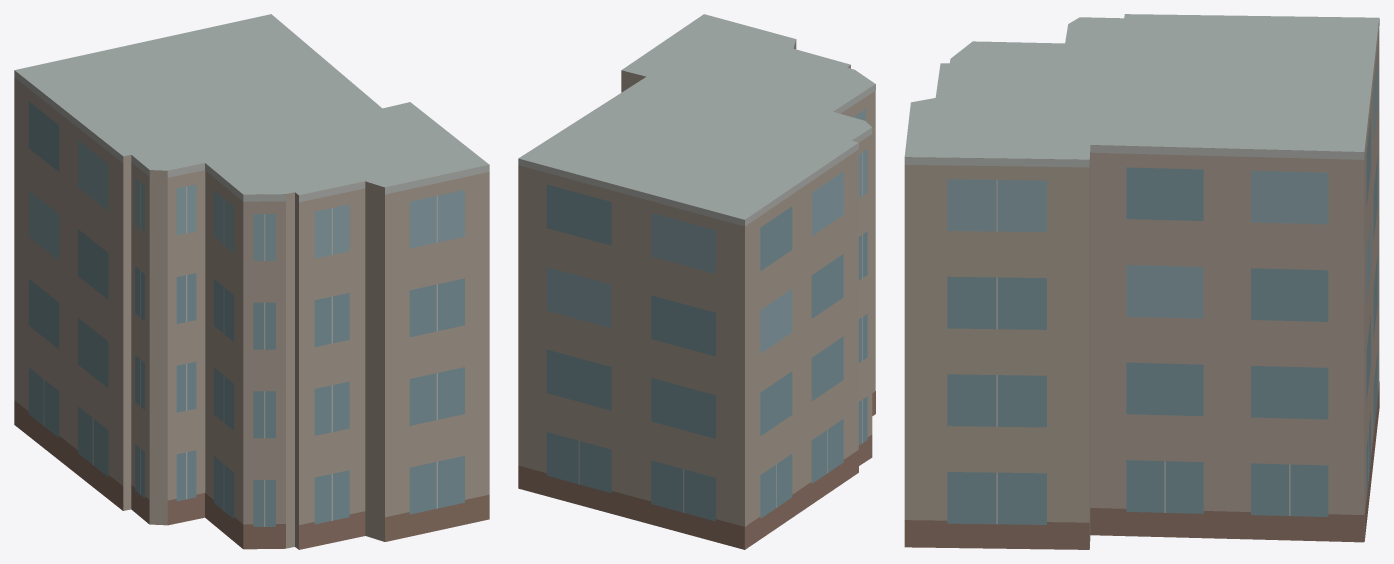
Rendered from survey-upis-32665495.glb.
The picture shows the model from 3 angles, left to right: view 1: azimuth 30°, elevation 25°; view 2: azimuth 150°, elevation 25°; view 3: azimuth 270°, elevation 25°; orthographic projection. The views are drawn at different scales.
Parts seen in each view (by area): view 1: survey-upis-32665495.tmp; view 2: survey-upis-32665495.tmp; view 3: survey-upis-32665495.tmp.
Part boxes in pixels (bbox=[...]): survey-upis-32665495.tmp: bbox=[14, 14, 489, 549]; survey-upis-32665495.tmp: bbox=[518, 14, 875, 549]; survey-upis-32665495.tmp: bbox=[904, 14, 1379, 549].
Size of the model in its own units: 9.77 by 12.2 by 13.46.
